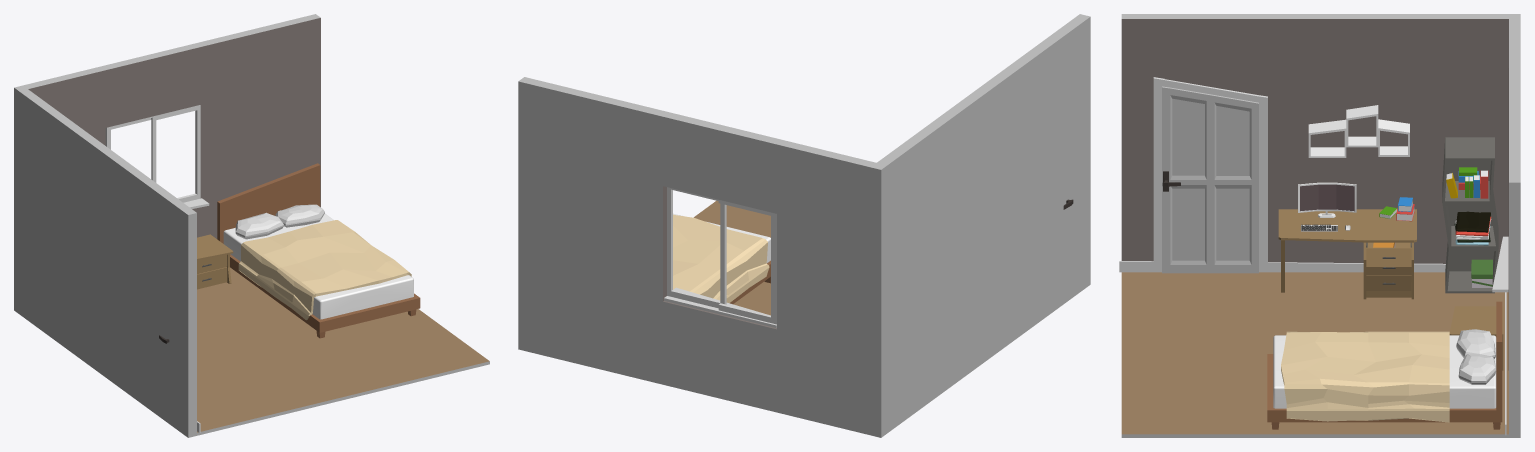
The model's file is backdrop.glb.
The picture shows the model from 3 angles, left to right: view 1: azimuth 30°, elevation 25°; view 2: azimuth 150°, elevation 25°; view 3: azimuth 270°, elevation 25°; orthographic projection. The views are drawn at different scales.
Parts seen in each view (by area): view 1: Cube.002_2; view 2: Cube.002_2; view 3: Cube.002_2, Cube.011_3, Cube.012_4.
Part boxes in pixels (bbox=[...]): Cube.002_2: bbox=[14, 14, 489, 437]; Cube.002_2: bbox=[518, 14, 1090, 437]; Cube.002_2: bbox=[1119, 14, 1520, 437]; Cube.011_3: bbox=[1346, 105, 1378, 147]; Cube.012_4: bbox=[1378, 119, 1409, 156].
Size of the model in its own units: 10.4 by 7.2 by 10.26.
